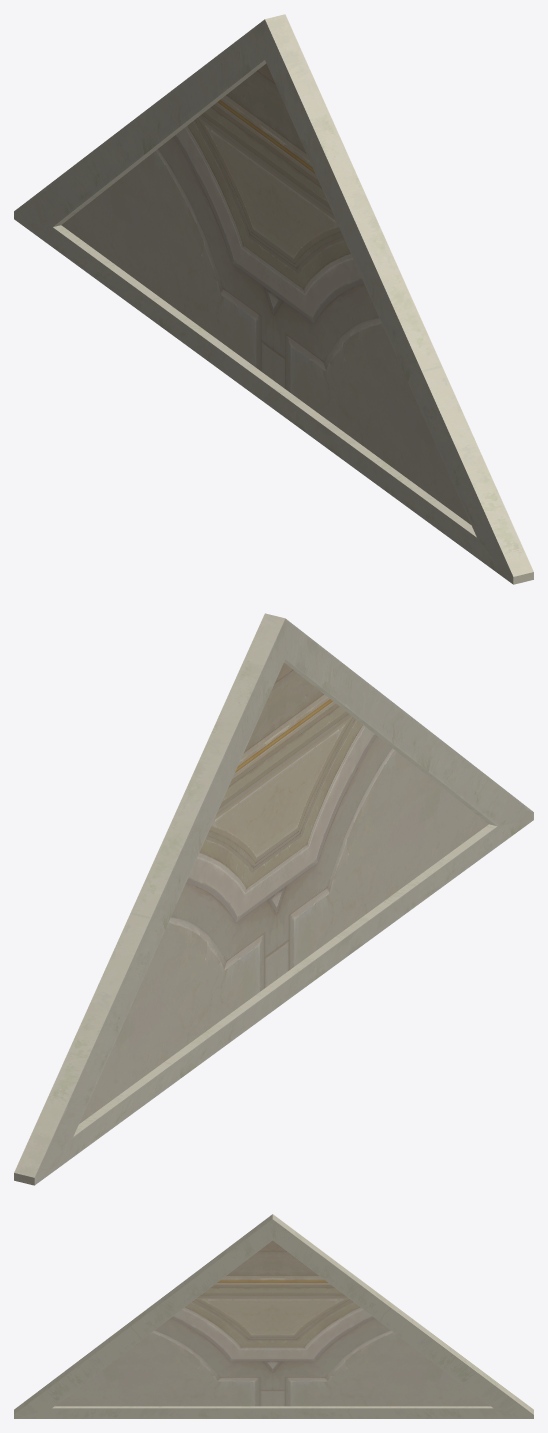
Rendered from Homeworld_Interior_Fd_Room_Ceiling_03_Vo.fbx.
3 renders of one model, top to bottom at view 1: azimuth 30°, elevation 25°; view 2: azimuth 150°, elevation 25°; view 3: azimuth 270°, elevation 25°, orthographic. The views are drawn at different scales.
Visible parts, largest first — view 1: Homeworld_Interior_Fd_Room_Ceiling_03_Vo; view 2: Homeworld_Interior_Fd_Room_Ceiling_03_Vo; view 3: Homeworld_Interior_Fd_Room_Ceiling_03_Vo.
Boxes of the visible parts, x1,y1,x2,y2 form: Homeworld_Interior_Fd_Room_Ceiling_03_Vo: [14, 14, 533, 584]; Homeworld_Interior_Fd_Room_Ceiling_03_Vo: [14, 613, 533, 1185]; Homeworld_Interior_Fd_Room_Ceiling_03_Vo: [14, 1214, 533, 1418].
Size of the model in its own units: 0.2465 by 4.4 by 10.38.
